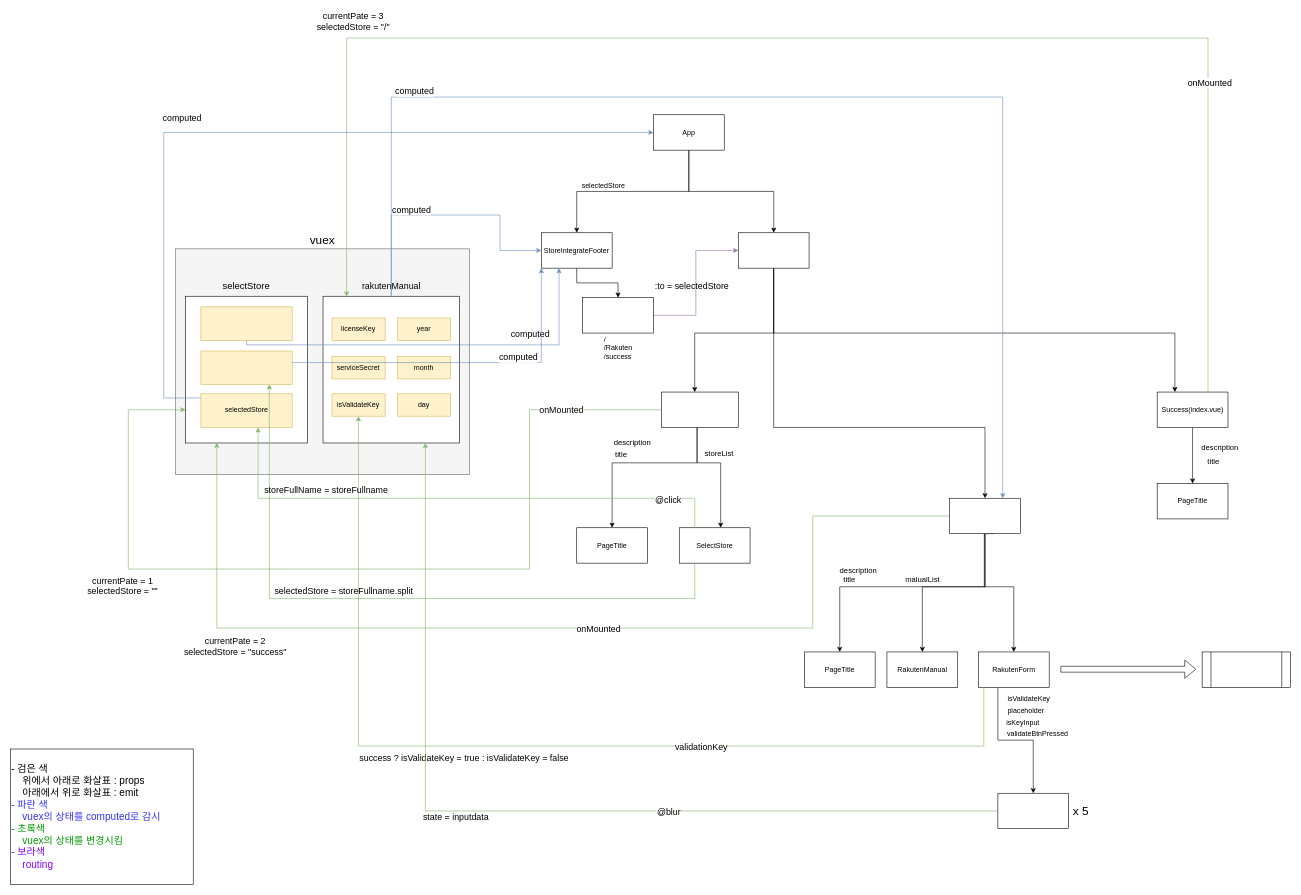
The diagram is 1301 pixels wide and 895 high, and some of its shapes have lost their labels. The box of each missing label's shape, as (x1, y1, x2, y2) in pixels:
currentPage: (200, 306, 292, 340)
KeyInputForm: (997, 793, 1069, 829)
Rakuten(index.vue): (949, 498, 1020, 534)
router-linlk: (582, 297, 653, 333)
router-view: (738, 232, 809, 268)
SelectStore(index.vue): (661, 391, 738, 427)
storeFullName: (200, 350, 292, 384)
입력받은 키에 대한 검증이 validationKey: (1202, 651, 1291, 687)
